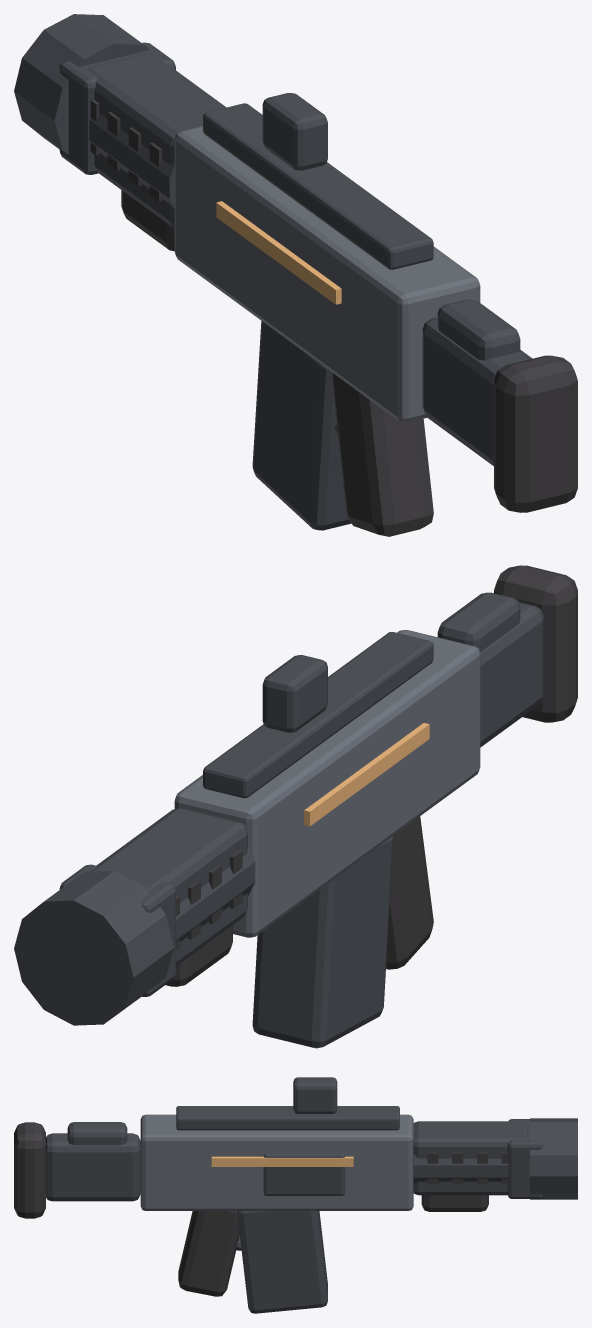
The model's file is WPN_FusionRifle.fbx.
3 renders of one model, top to bottom at view 1: azimuth 30°, elevation 25°; view 2: azimuth 150°, elevation 25°; view 3: azimuth 270°, elevation 25°, orthographic. The views are drawn at different scales.
Parts seen in each view (by area): view 1: WPN_FusionRifle; view 2: WPN_FusionRifle; view 3: WPN_FusionRifle.
Part boxes in pixels (left/top/right/bottom): WPN_FusionRifle: left=14, top=14, right=577, bottom=536; WPN_FusionRifle: left=14, top=565, right=577, bottom=1048; WPN_FusionRifle: left=14, top=1077, right=577, bottom=1313.
Bounding box in the file's own units: 0.102 × 0.31 × 0.703.
